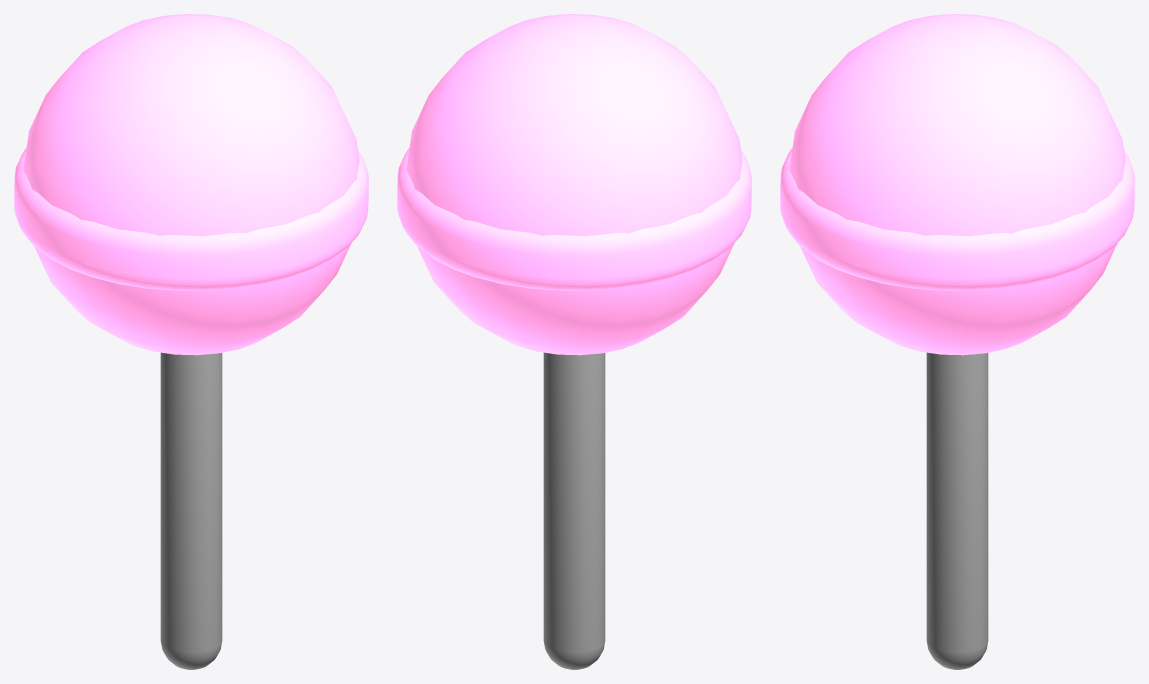
File: loli3.fbx
3 views of the same model, side by side, from view 1: azimuth 30°, elevation 25°; view 2: azimuth 150°, elevation 25°; view 3: azimuth 270°, elevation 25° (orthographic).
Parts seen in each view (by area): view 1: Sphere, Cylinder_1, Cylinder; view 2: Sphere, Cylinder_1, Cylinder; view 3: Sphere, Cylinder_1, Cylinder.
Boxes of the visible parts, x1,y1,x2,y2 form: Sphere: (23, 14, 359, 355); Cylinder_1: (14, 148, 368, 290); Cylinder: (160, 352, 222, 669); Sphere: (406, 14, 742, 355); Cylinder_1: (397, 148, 751, 290); Cylinder: (543, 352, 605, 669); Sphere: (789, 14, 1125, 355); Cylinder_1: (780, 148, 1134, 290); Cylinder: (926, 352, 988, 669).
Size of the model in its own units: 30.42 by 60.43 by 30.42.
